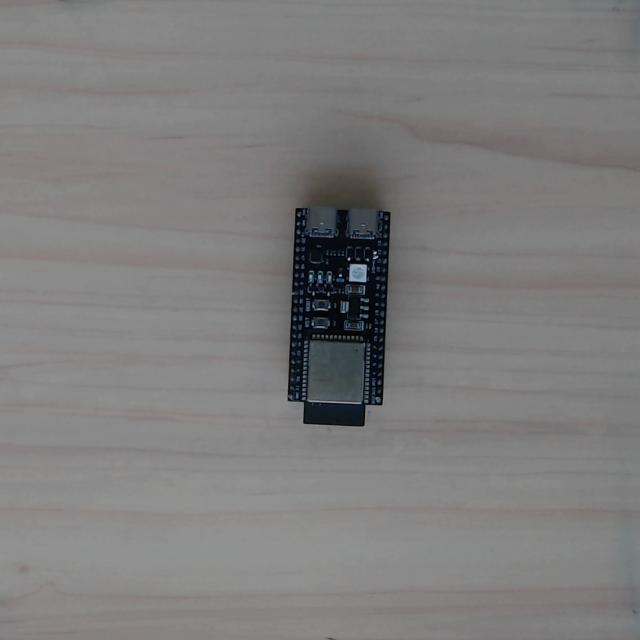ESP32S3-Devkit: (286, 205, 391, 427)
